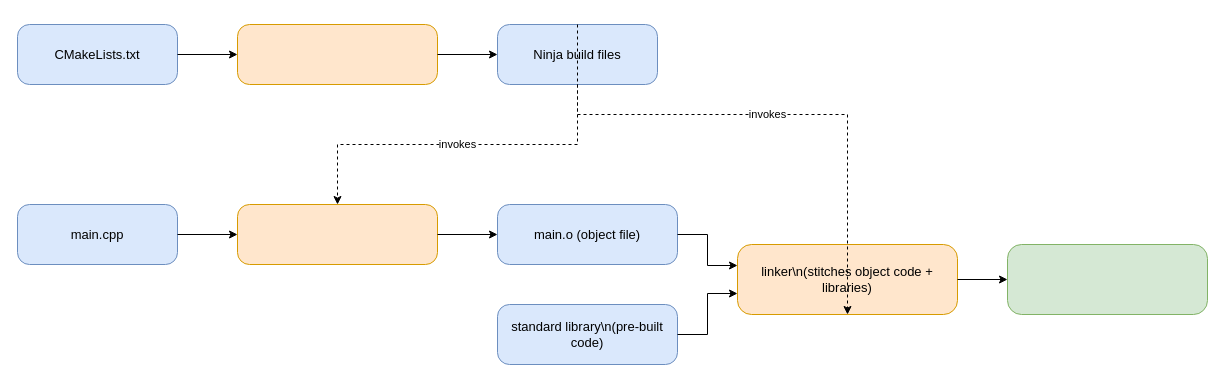
The diagram is 1225 pixels wide and 382 high, and some of its shapes have lost their labels. The shapes that lost their labels are listed below. From the top down, each one's centre as x and y in pixels, then its label:
[337,54]: cmake -B build\n(generates build files)
[337,234]: compiler\n(source -> object code)
[1107,279]: rooster (or rooster.exe)\nrunnable program
